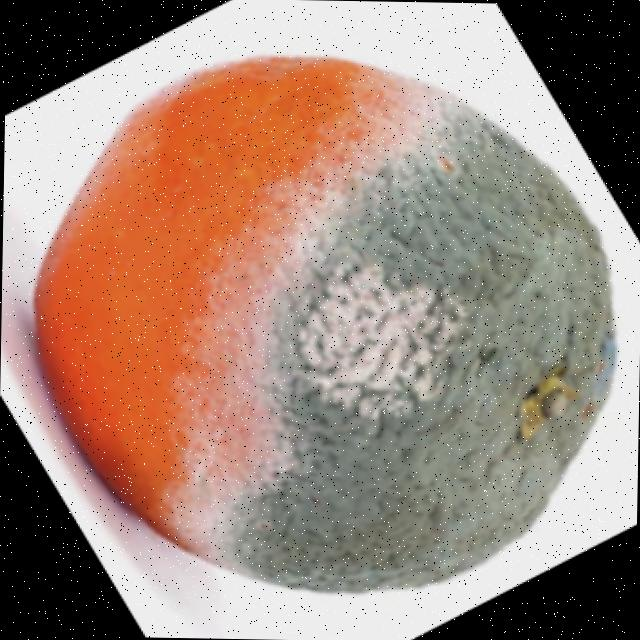Rotten: (26, 51, 623, 598)
